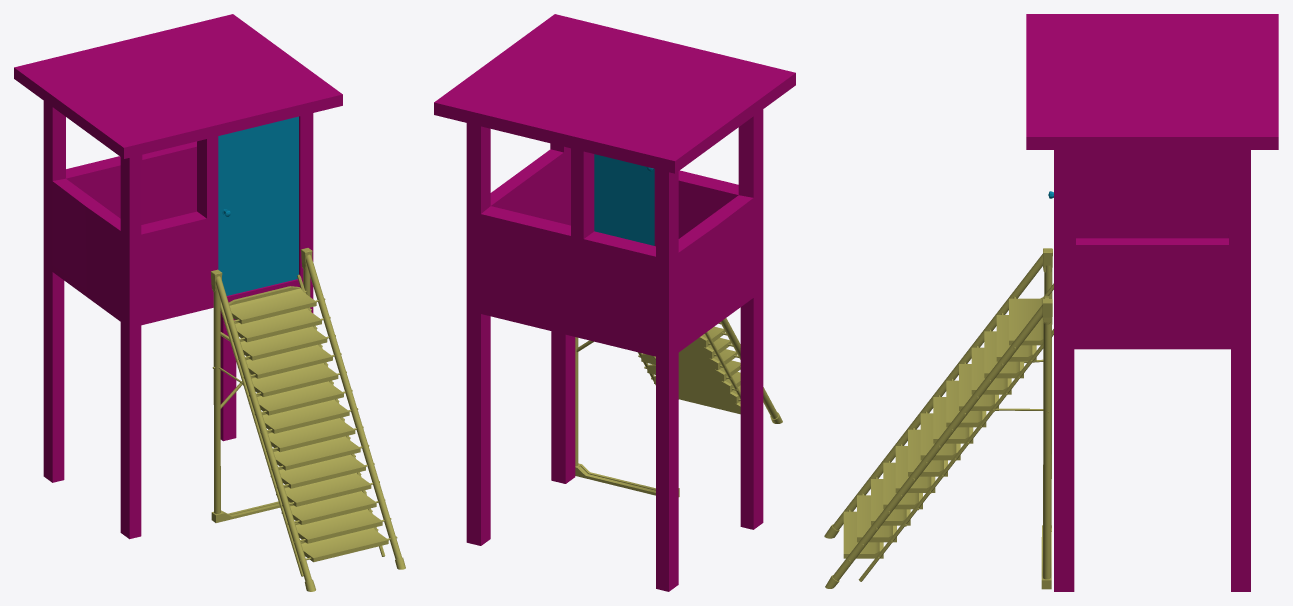
The model's file is towerGuard_complete_lo.fbx.
The picture shows the model from 3 angles, left to right: view 1: azimuth 30°, elevation 25°; view 2: azimuth 150°, elevation 25°; view 3: azimuth 270°, elevation 25°; orthographic projection. The views are drawn at different scales.
Visible parts, largest first — view 1: towerWatch3_lo, stairs_lo2, bldg1_doorway_door1_lo1; view 2: towerWatch3_lo, stairs_lo2, bldg1_doorway_door1_lo1; view 3: towerWatch3_lo, stairs_lo2.
Part boxes in pixels (x1,y1,x2,y2): towerWatch3_lo: (14, 14, 342, 539); stairs_lo2: (211, 248, 405, 591); bldg1_doorway_door1_lo1: (218, 116, 298, 295); towerWatch3_lo: (434, 14, 795, 591); stairs_lo2: (575, 318, 782, 496); bldg1_doorway_door1_lo1: (594, 154, 654, 245); towerWatch3_lo: (1026, 14, 1278, 591); stairs_lo2: (824, 248, 1053, 589).
Bounding box in the file's own units: 321 × 567 × 503.
